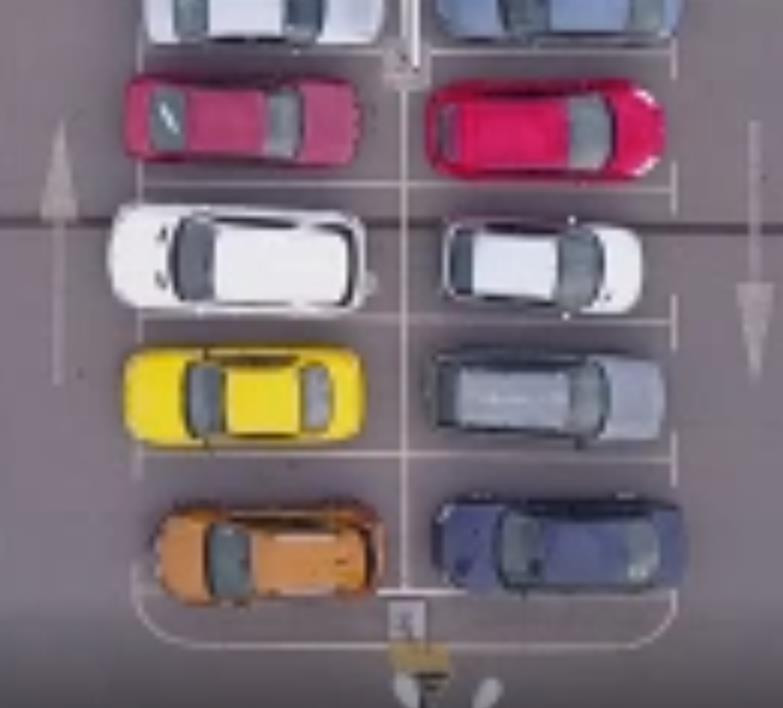car: (101, 198, 383, 317), (428, 488, 692, 603), (421, 340, 675, 453), (118, 336, 366, 450), (140, 499, 390, 611), (421, 77, 670, 184), (121, 65, 363, 174), (428, 205, 647, 320)
